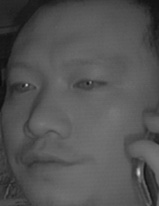eye: (71, 74, 105, 96), (8, 77, 38, 97)
mouth: (21, 144, 80, 180)
